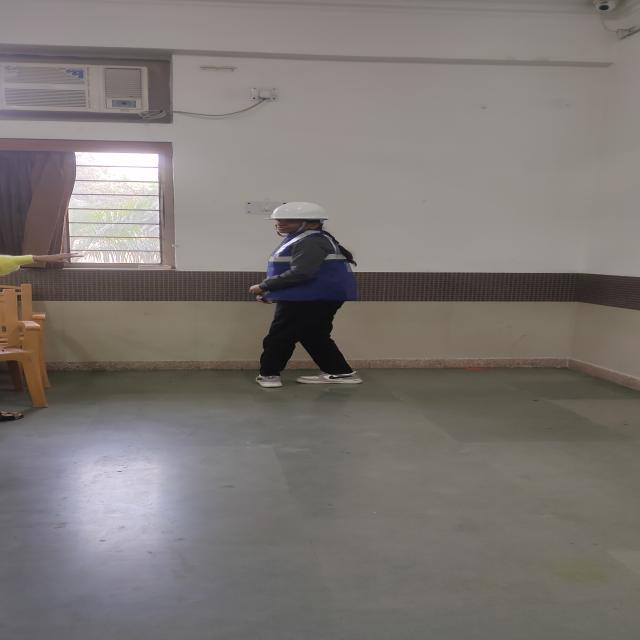safe: (251, 202, 358, 387)
